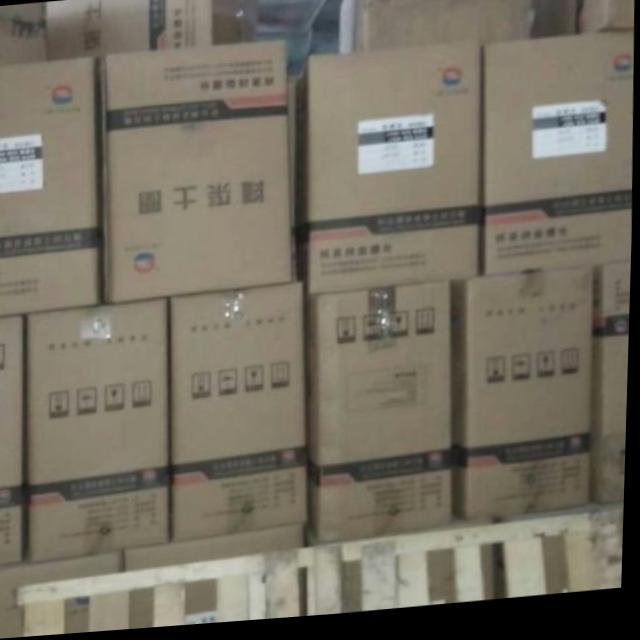box: (98, 44, 293, 305), (297, 47, 482, 299), (305, 288, 457, 547), (26, 301, 170, 564), (168, 287, 309, 546), (484, 41, 634, 284), (453, 276, 593, 530), (0, 57, 100, 316), (46, 0, 259, 61), (337, 0, 529, 61), (0, 554, 128, 639), (594, 271, 633, 516), (128, 528, 309, 572), (0, 314, 26, 565), (529, 0, 634, 47), (0, 2, 46, 62)
